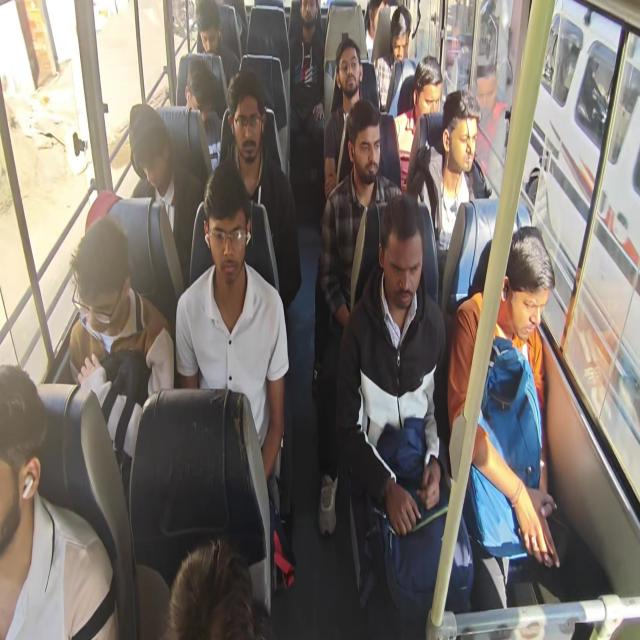person: (166, 527, 253, 637), (195, 167, 257, 272), (0, 394, 42, 543), (499, 248, 547, 346), (372, 212, 422, 304), (78, 233, 124, 332), (122, 98, 166, 200), (232, 87, 264, 168), (446, 109, 475, 181), (184, 69, 216, 130), (352, 118, 381, 183), (194, 6, 227, 55), (416, 59, 438, 120), (336, 48, 361, 94), (362, 0, 388, 27), (298, 0, 318, 34), (395, 15, 409, 60)
